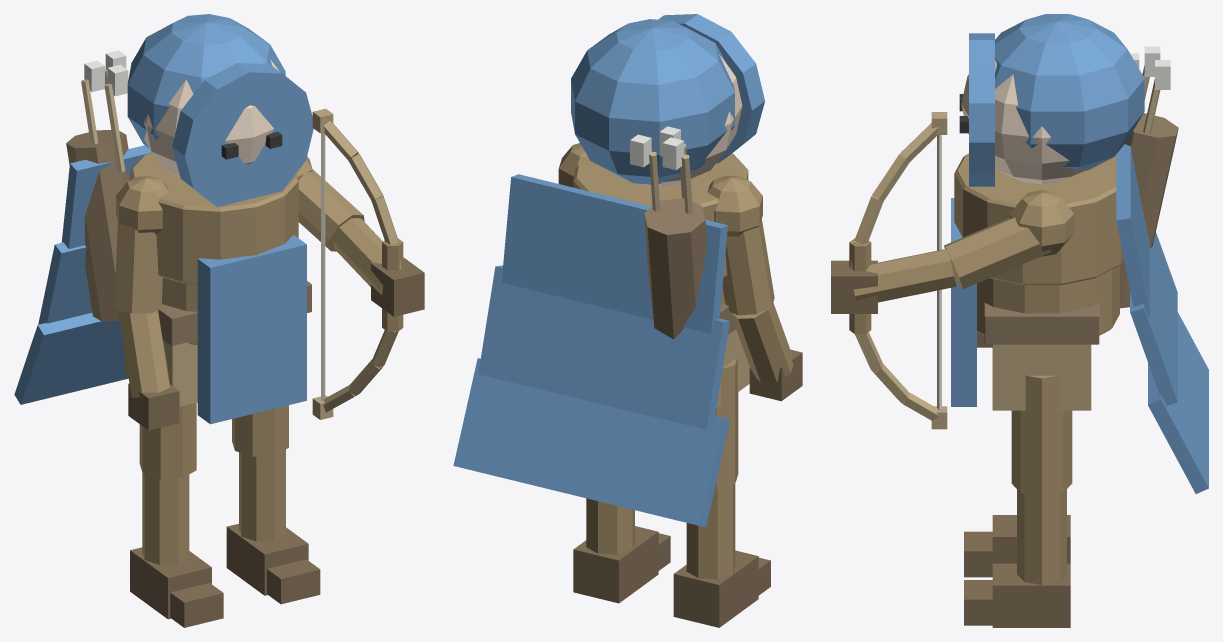
File: archer.glb
3 views of the same model, side by side, from view 1: azimuth 30°, elevation 25°; view 2: azimuth 150°, elevation 25°; view 3: azimuth 270°, elevation 25° (orthographic). The views are drawn at different scales.
Visible parts, largest first — view 1: Tabard_TeamColor, HoodRim_TeamColor, Chest, Hood_TeamColor, Cape2_TeamColor, Quiver, LegLowerL, LegLowerR, ArmUpperL, Head, ArmLowerL, LegUpperL (+21 smaller); view 2: Cape2_TeamColor, Cape1_TeamColor, Hood_TeamColor, Cape0_TeamColor, Quiver, BootR, BootL, Chest, ArmUpperL, HoodRim_TeamColor, LegLowerL, ArmLowerL (+11 smaller); view 3: Hood_TeamColor, Chest, LegUpperR, Cape2_TeamColor, Pelvis, Torso, Head, Cape1_TeamColor, LegLowerR, BootR, ArmUpperR, Belt (+17 smaller).
Part boxes in pixels (left/top/right/bottom): Tabard_TeamColor: left=197, top=235, right=306, bottom=424; HoodRim_TeamColor: left=172, top=63, right=313, bottom=206; Chest: left=130, top=153, right=298, bottom=284; Hood_TeamColor: left=127, top=14, right=285, bottom=147; Cape2_TeamColor: left=14, top=313, right=128, bottom=404; Quiver: left=66, top=130, right=129, bottom=321; LegLowerL: left=142, top=473, right=189, bottom=564; LegLowerR: left=239, top=449, right=285, bottom=541; ArmUpperL: left=114, top=221, right=162, bottom=313; Head: left=144, top=59, right=279, bottom=176; ArmLowerL: left=118, top=310, right=169, bottom=397; LegUpperL: left=139, top=403, right=196, bottom=479; Cape2_TeamColor: left=453, top=358, right=730, bottom=526; Cape1_TeamColor: left=478, top=265, right=730, bottom=429; Hood_TeamColor: left=571, top=19, right=734, bottom=184; Cape0_TeamColor: left=501, top=174, right=727, bottom=333; Quiver: left=644, top=198, right=706, bottom=339; BootR: left=573, top=526, right=658, bottom=603; BootL: left=673, top=550, right=758, bottom=627; Chest: left=573, top=153, right=748, bottom=277; ArmUpperL: left=722, top=219, right=774, bottom=315; HoodRim_TeamColor: left=658, top=14, right=764, bottom=163; LegLowerL: left=686, top=484, right=735, bottom=579; ArmLowerL: left=732, top=303, right=793, bottom=382; Hood_TeamColor: left=995, top=14, right=1144, bottom=170; Chest: left=954, top=153, right=1123, bottom=285; LegUpperR: left=1011, top=375, right=1072, bottom=496; Cape2_TeamColor: left=1148, top=312, right=1208, bottom=493; Pelvis: left=992, top=344, right=1091, bottom=410; Torso: left=977, top=264, right=1119, bottom=335; Head: left=961, top=39, right=1090, bottom=184; Cape1_TeamColor: left=1130, top=232, right=1177, bottom=405; LegLowerR: left=1017, top=489, right=1066, bottom=584; BootR: left=992, top=563, right=1070, bottom=627; ArmUpperR: left=944, top=217, right=1051, bottom=288; Belt: left=984, top=303, right=1099, bottom=344.
Bounding box in the file's own units: 0.54 × 1.21 × 0.7256.
